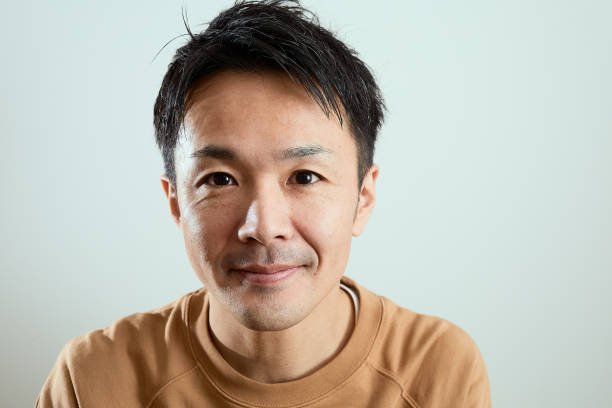person: (153, 2, 383, 340)
